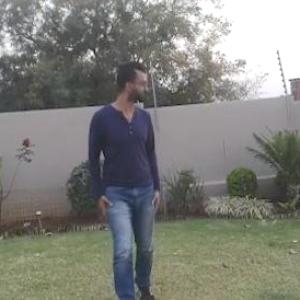follow: (81, 46, 174, 299)
